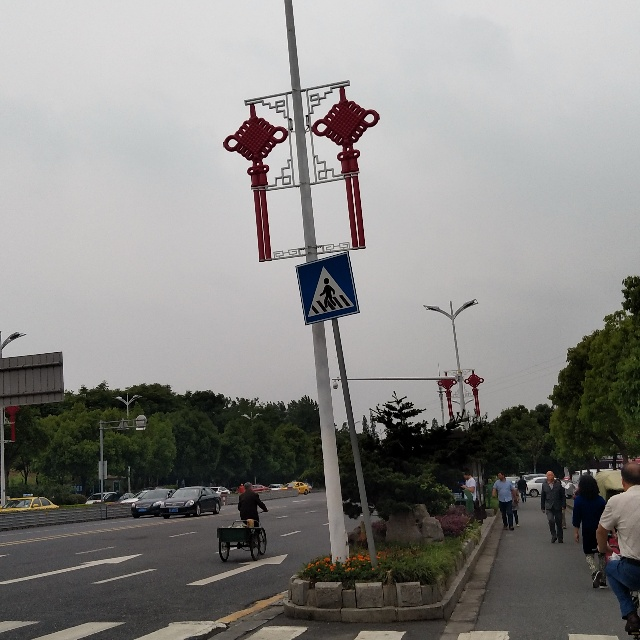crosswalk: (301, 261, 352, 315)
